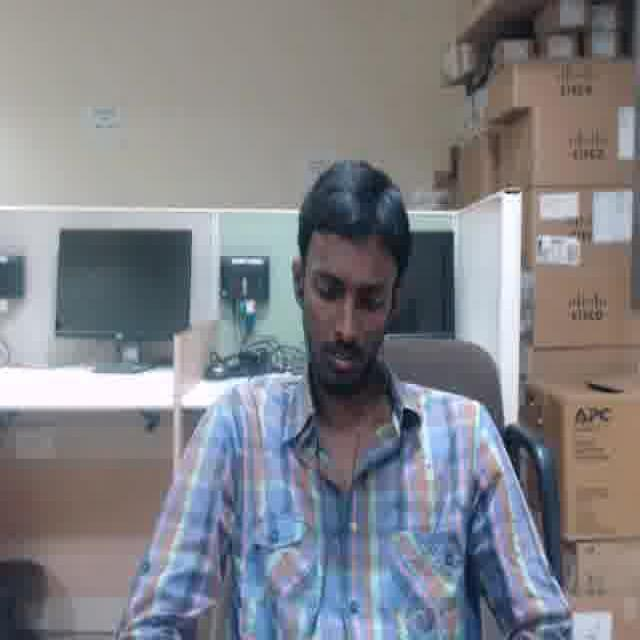Boredom: (301, 231, 391, 388)
